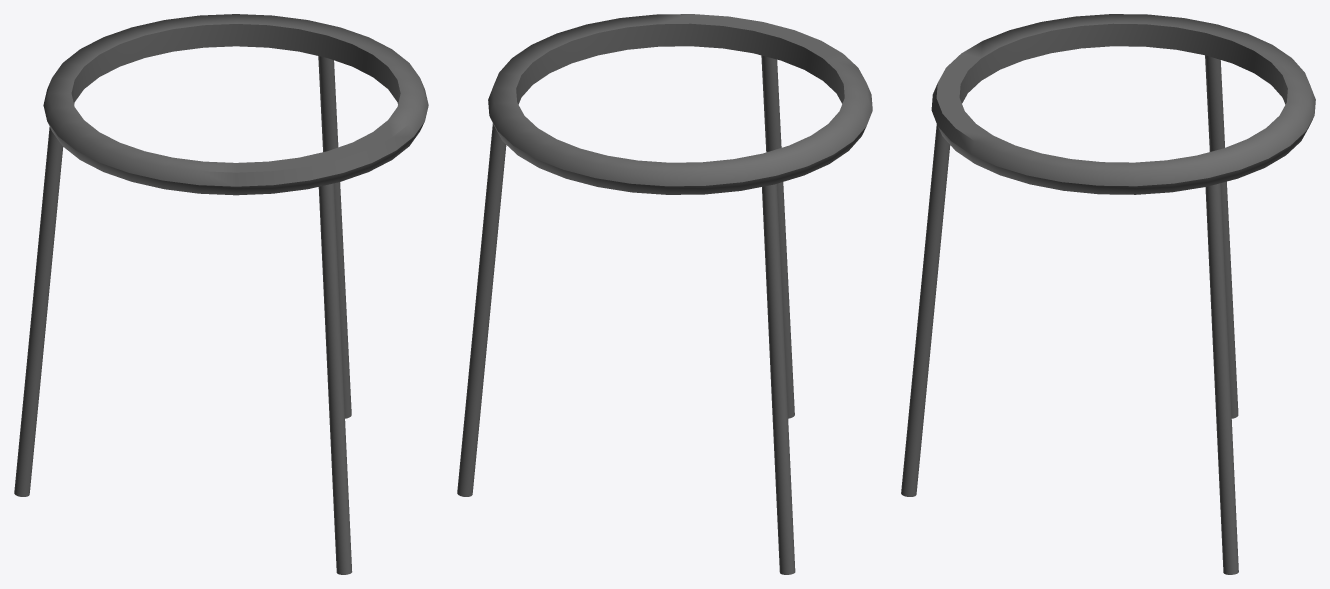
Rendered from Tripod.gltf.
3 views of the same model, side by side, from view 1: azimuth 30°, elevation 25°; view 2: azimuth 150°, elevation 25°; view 3: azimuth 270°, elevation 25° (orthographic).
Parts seen in each view (by area): view 1: Cylinder.016; view 2: Cylinder.016; view 3: Cylinder.016.
Boxes of the visible parts, x1=… form: Cylinder.016: x1=14, y1=14, x2=428, y2=574; Cylinder.016: x1=457, y1=14, x2=872, y2=574; Cylinder.016: x1=901, y1=14, x2=1315, y2=574.
Bounding box in the file's own units: 0.2707 × 0.3091 × 0.2898.
1 material, 1 textured.
